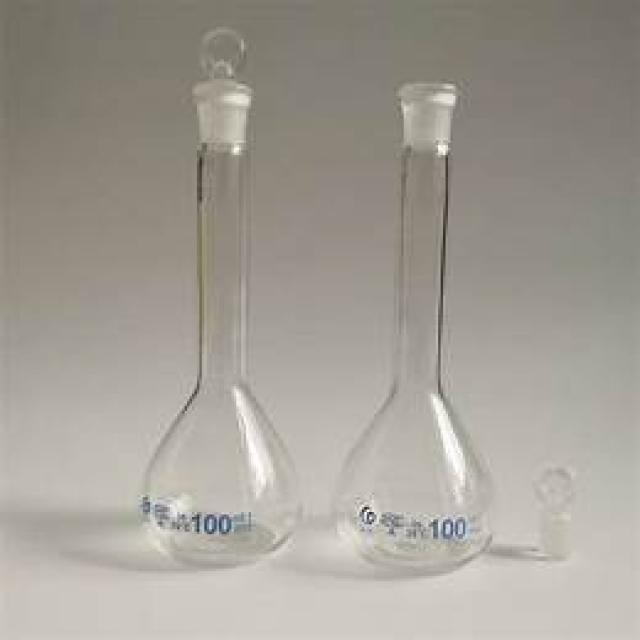Volumetric flask: (136, 22, 305, 572), (335, 56, 498, 572)
